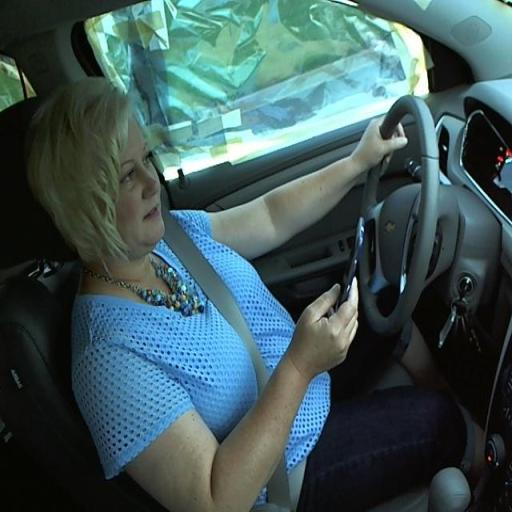texting_phone: (33, 97, 408, 507)
